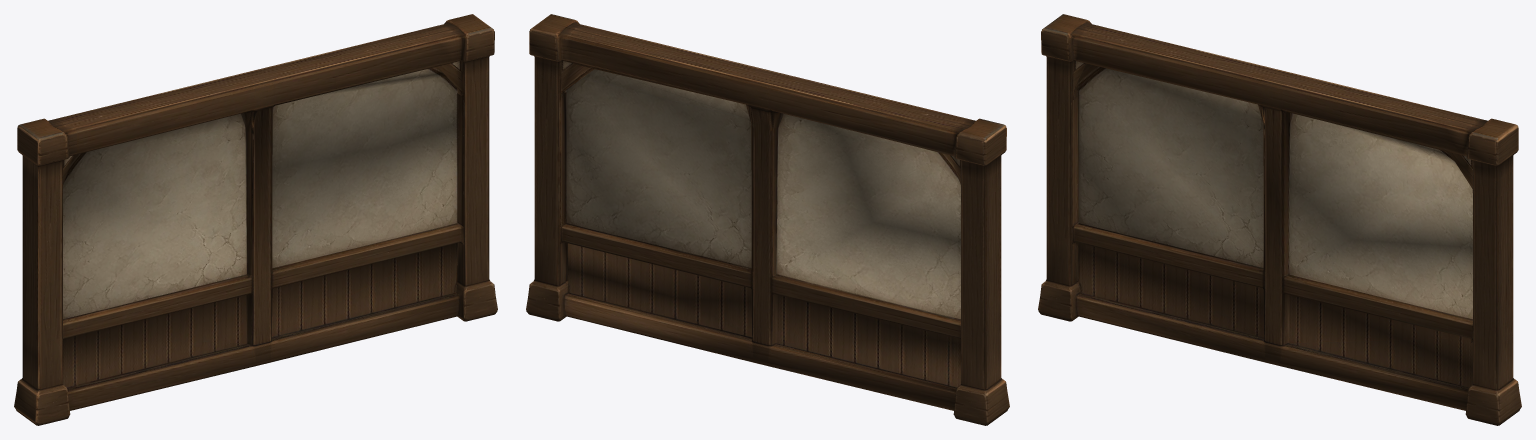
The model's file is two-panel_wooden_frame.fbx.
3 views of the same model, side by side, from view 1: azimuth 30°, elevation 25°; view 2: azimuth 150°, elevation 25°; view 3: azimuth 330°, elevation 25° (orthographic).
Parts seen in each view (by area): view 1: obj1; view 2: obj1; view 3: obj1.
Part boxes in pixels (box(x1,y1,x2,y2)): obj1: box(14, 14, 497, 425); obj1: box(526, 14, 1009, 425); obj1: box(1038, 14, 1521, 425).
Size of the model in its own units: 191 by 113 by 16.04.
Materials: 1 (1 with a texture image).
